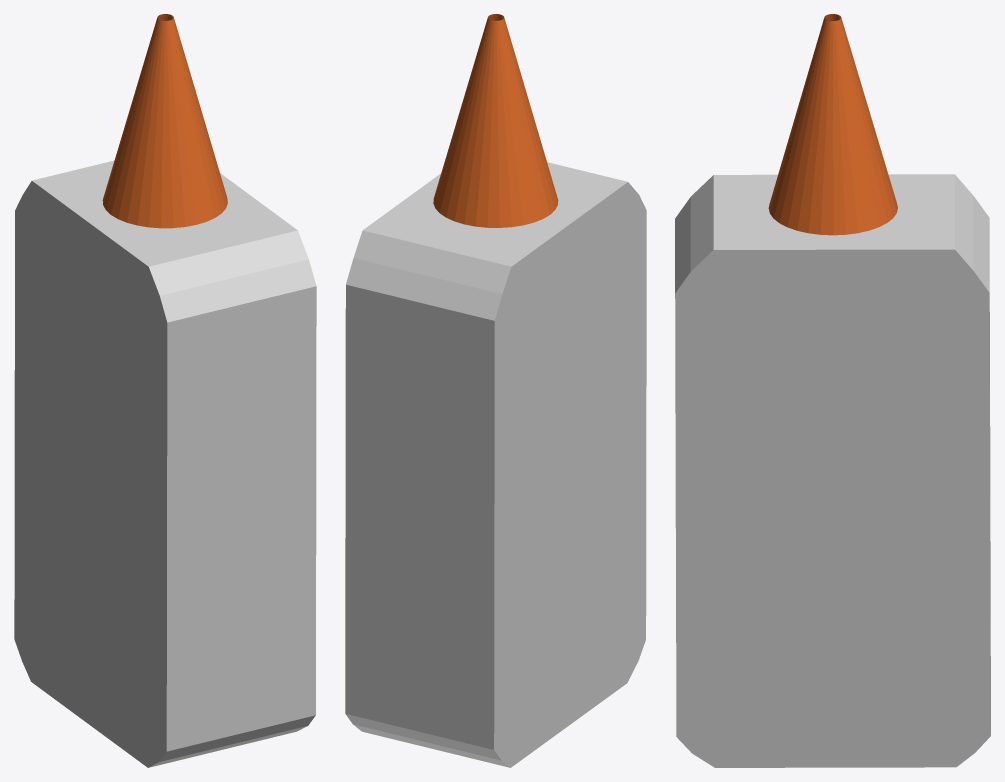
Rendered from glue.fbx.
The picture shows the model from 3 angles, left to right: view 1: azimuth 30°, elevation 25°; view 2: azimuth 150°, elevation 25°; view 3: azimuth 270°, elevation 25°; orthographic projection. The views are drawn at different scales.
Visible parts, largest first — view 1: Glue; view 2: Glue; view 3: Glue.
Boxes of the visible parts, x1=… form: Glue: x1=14, y1=14, x2=316, y2=767; Glue: x1=345, y1=14, x2=646, y2=767; Glue: x1=675, y1=14, x2=990, y2=767.
Bounding box in the file's own units: 74.6 × 330 × 132.
